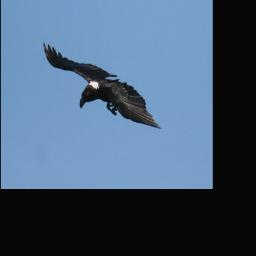Crow: (42, 40, 162, 129)
